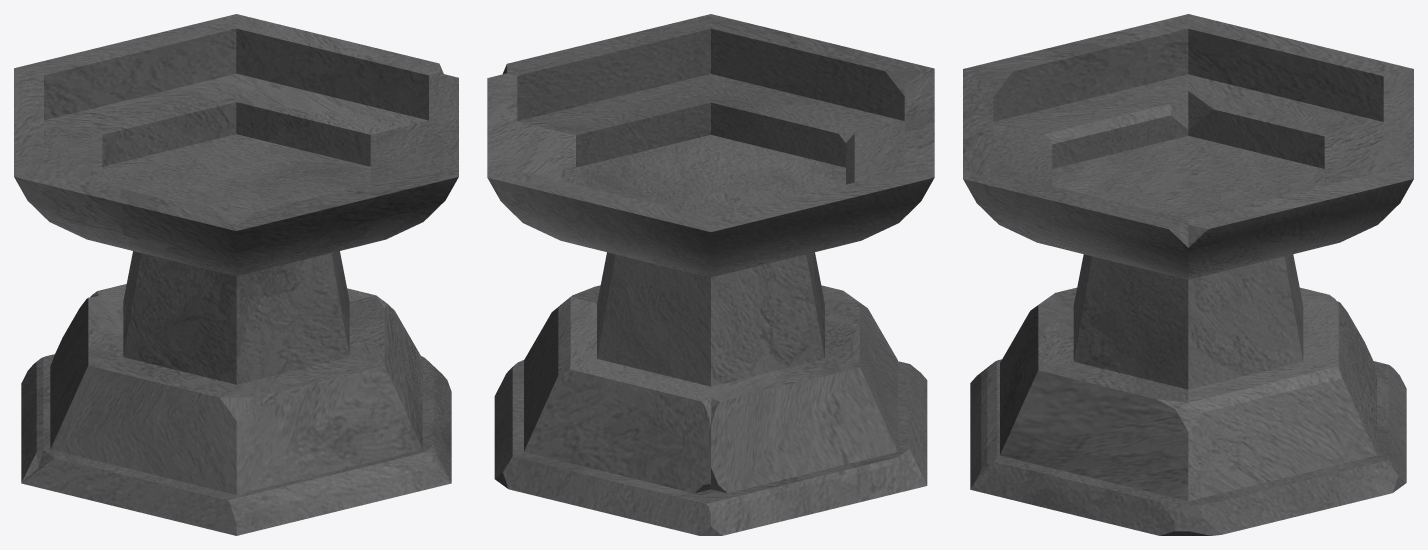
The model's file is Exhibition Stand.fbx.
The picture shows the model from 3 angles, left to right: view 1: azimuth 30°, elevation 25°; view 2: azimuth 150°, elevation 25°; view 3: azimuth 270°, elevation 25°; orthographic projection.
Visible parts, largest first — view 1: Cone002; view 2: Cone002; view 3: Cone002.
Boxes of the visible parts, x1,y1,x2,y2 form: Cone002: [14, 14, 458, 535]; Cone002: [487, 14, 934, 535]; Cone002: [963, 14, 1413, 535].
Bounding box in the file's own units: 105 × 70.72 × 92.49.
